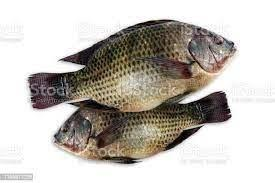Tilapia: (23, 21, 239, 121), (45, 96, 232, 168)
